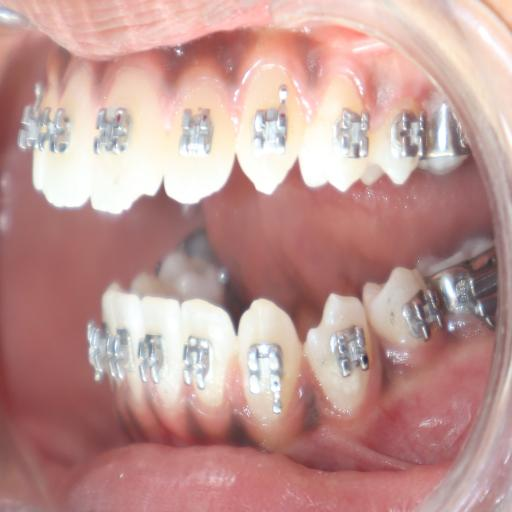correct_brace: (306, 292, 381, 417), (300, 70, 372, 195), (324, 314, 374, 396), (241, 341, 294, 413), (250, 82, 294, 160), (175, 103, 221, 173), (183, 333, 220, 397), (93, 104, 133, 162)
incorrect_brace: (165, 72, 232, 210), (180, 299, 238, 418), (330, 97, 371, 168)
